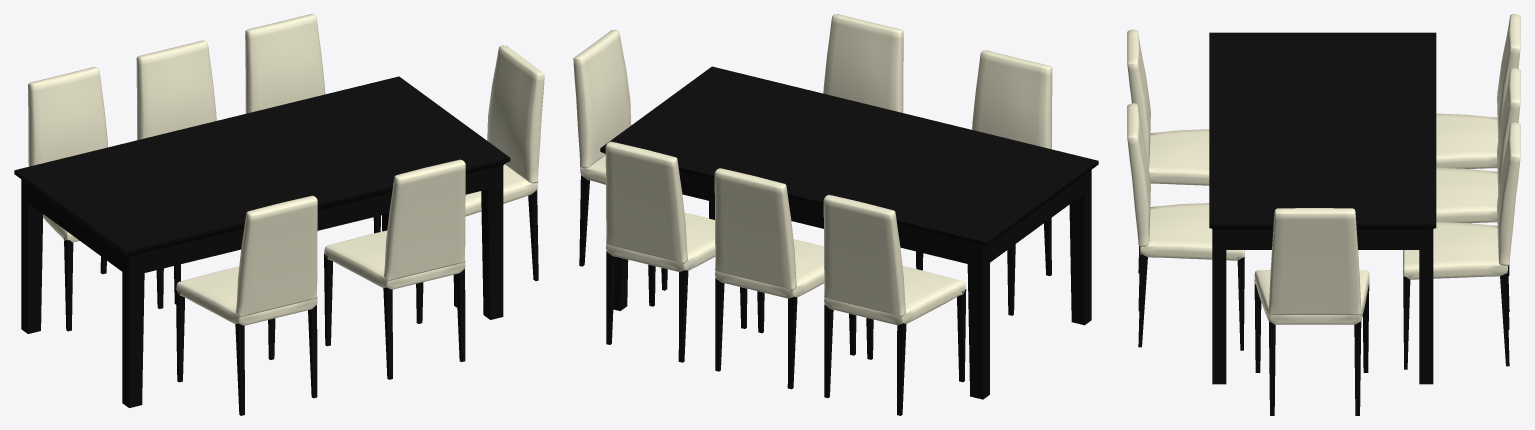
Rendered from IKEA-Markor_Dining_Table_02-3D.obj.
The picture shows the model from 3 angles, left to right: view 1: azimuth 30°, elevation 25°; view 2: azimuth 150°, elevation 25°; view 3: azimuth 270°, elevation 25°; orthographic projection. The views are drawn at different scales.
Visible parts, largest first — view 1: Box01, Box06, Box07, Box02, Box05, Box03, Box04; view 2: Box01, Box02, Box03, Box04, Box07, Box05, Box06; view 3: Box01, Box05, Box04, Box06, Box07, Box03, Box02.
Boxes of the visible parts, bbox=[...] form: Box01: bbox=[14, 76, 510, 407]; Box06: bbox=[324, 159, 465, 379]; Box07: bbox=[176, 195, 317, 415]; Box02: bbox=[28, 67, 163, 331]; Box05: bbox=[453, 45, 544, 307]; Box03: bbox=[136, 40, 216, 304]; Box04: bbox=[245, 14, 380, 233]; Box01: bbox=[600, 66, 1098, 399]; Box02: bbox=[823, 194, 966, 415]; Box03: bbox=[714, 168, 856, 389]; Box04: bbox=[605, 141, 747, 362]; Box07: bbox=[916, 50, 1052, 315]; Box05: bbox=[573, 29, 714, 290]; Box06: bbox=[823, 14, 903, 112]; Box01: bbox=[1209, 32, 1436, 384]; Box05: bbox=[1254, 208, 1369, 415]; Box04: bbox=[1403, 122, 1520, 369]; Box06: bbox=[1127, 103, 1244, 350]; Box07: bbox=[1127, 29, 1209, 273]; Box03: bbox=[1436, 68, 1520, 311]; Box02: bbox=[1436, 14, 1520, 168].
Bounding box in the file's own units: 223 × 96.35 × 164.
